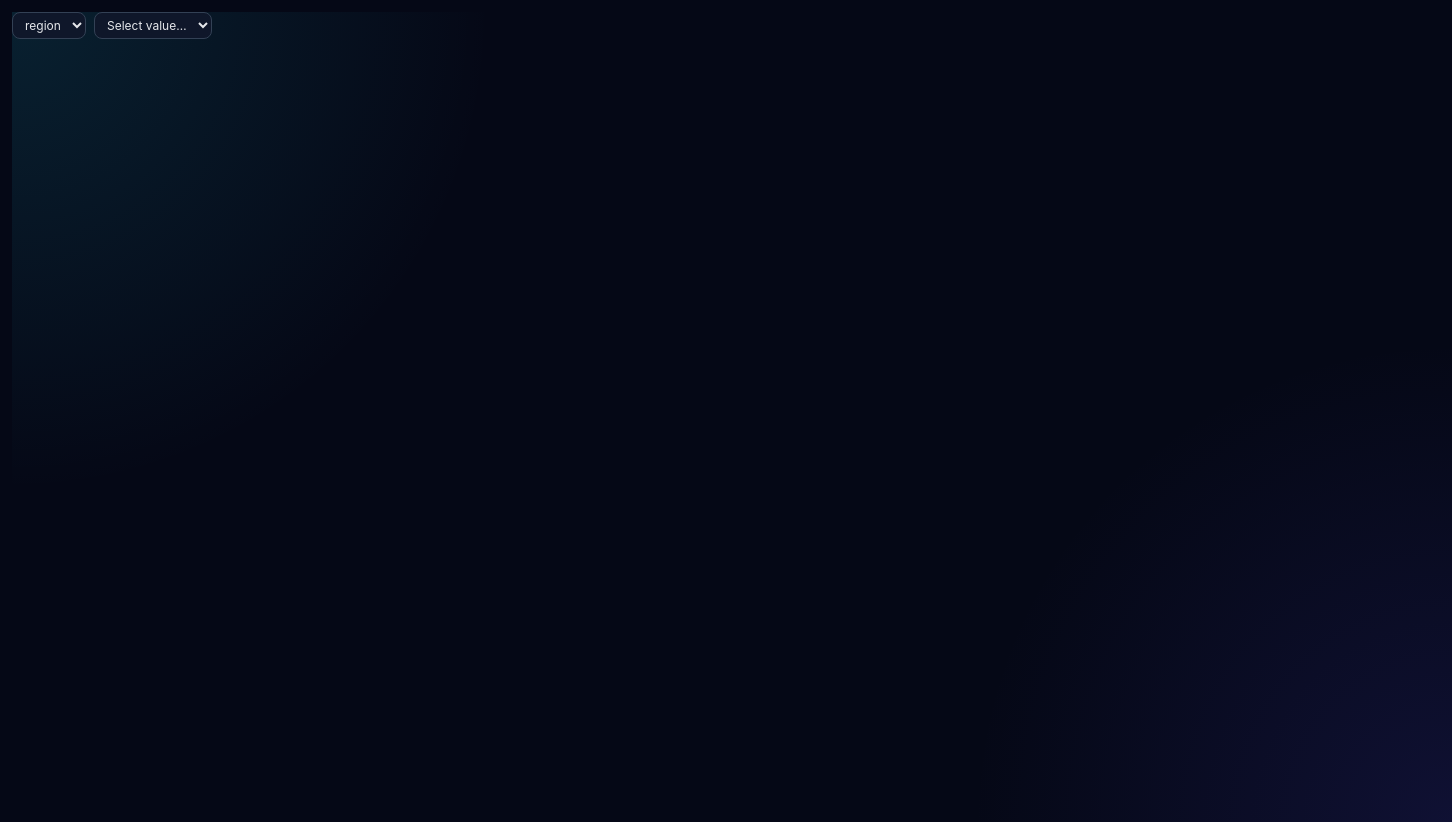
Test: DashboardFilters › applies a filter
The image size is (1452, 822).
Step 1. Select "North" in the 2nd dropdown → (153, 26), box [94,12,212,39]
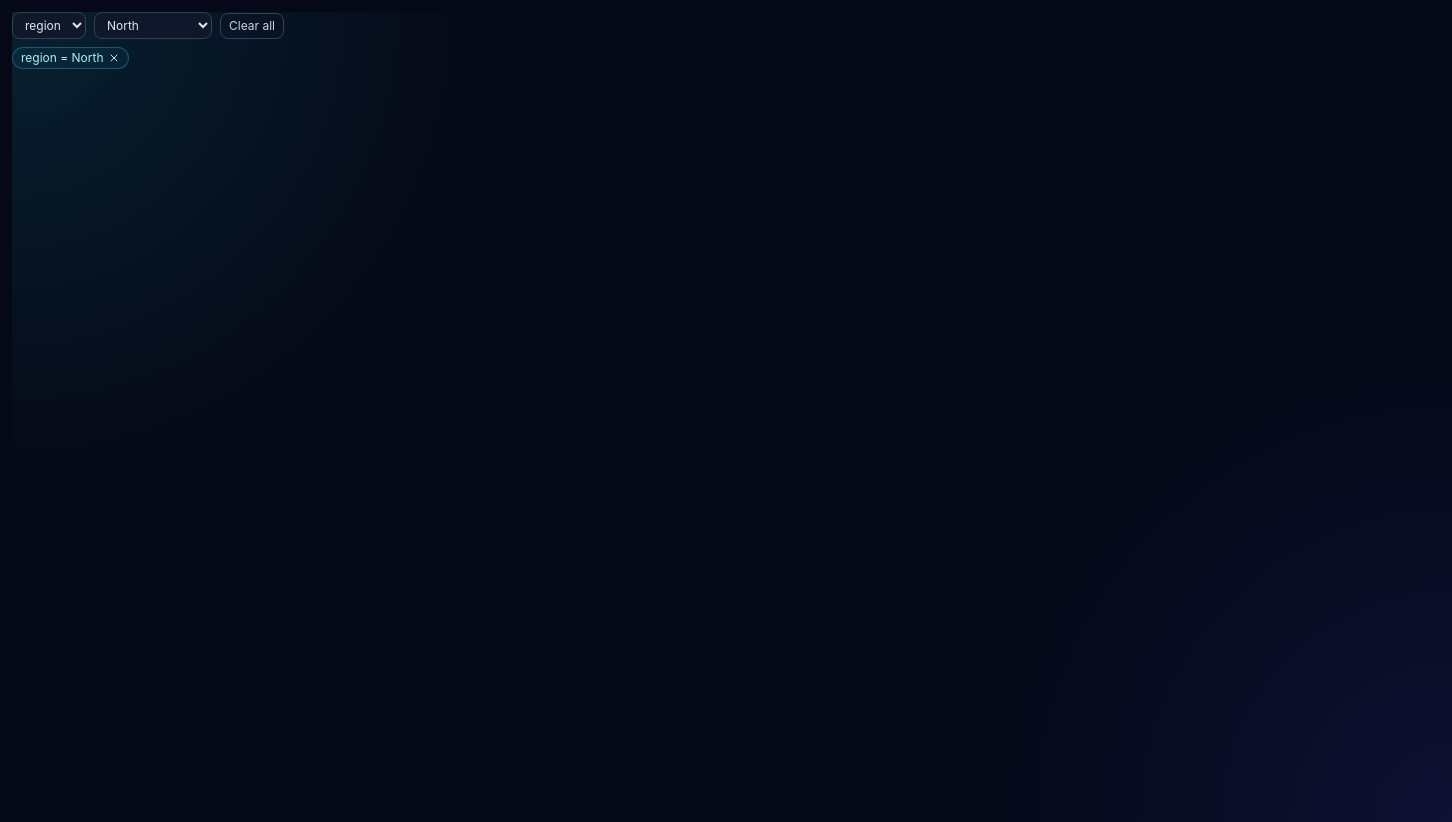
expect the text "region = North" is shown: met, box [12,47,128,69]
